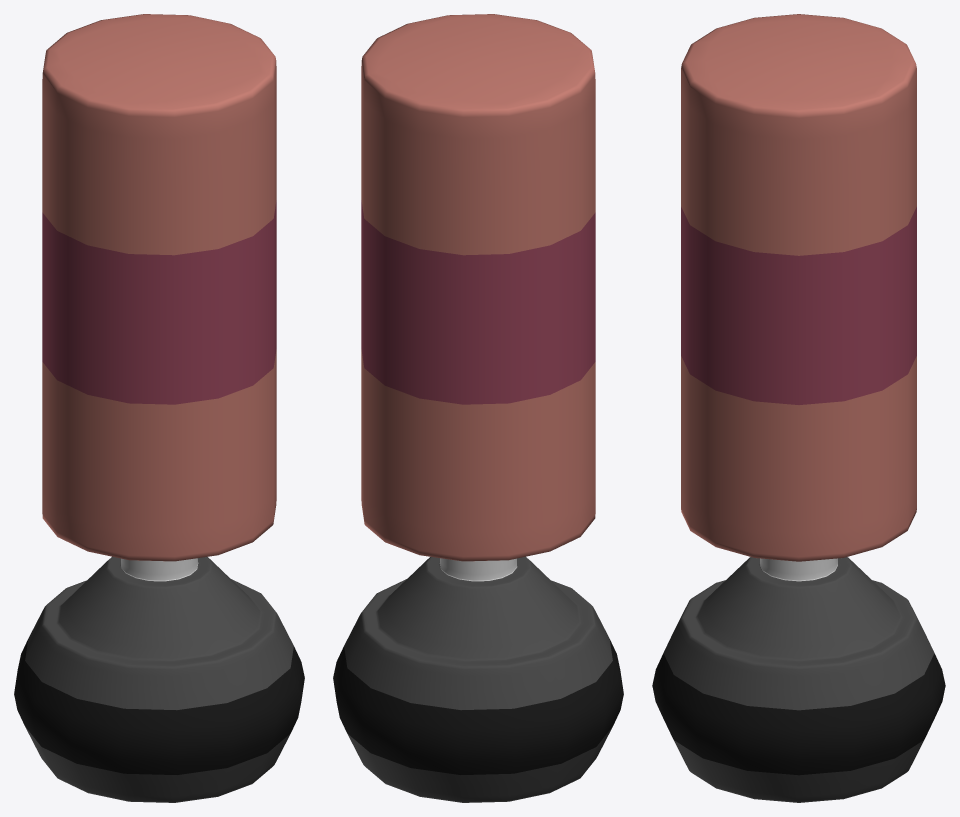
Rendered from Saco_boxeo_2.fbx.
The picture shows the model from 3 angles, left to right: view 1: azimuth 30°, elevation 25°; view 2: azimuth 150°, elevation 25°; view 3: azimuth 270°, elevation 25°; orthographic projection.
Parts seen in each view (by area): view 1: Cube; view 2: Cube; view 3: Cube.
Part boxes in pixels (bbox=[...]): Cube: bbox=[14, 14, 304, 802]; Cube: bbox=[333, 14, 623, 802]; Cube: bbox=[652, 14, 945, 802].
Bounding box in the file's own units: 189 × 497 × 189.
